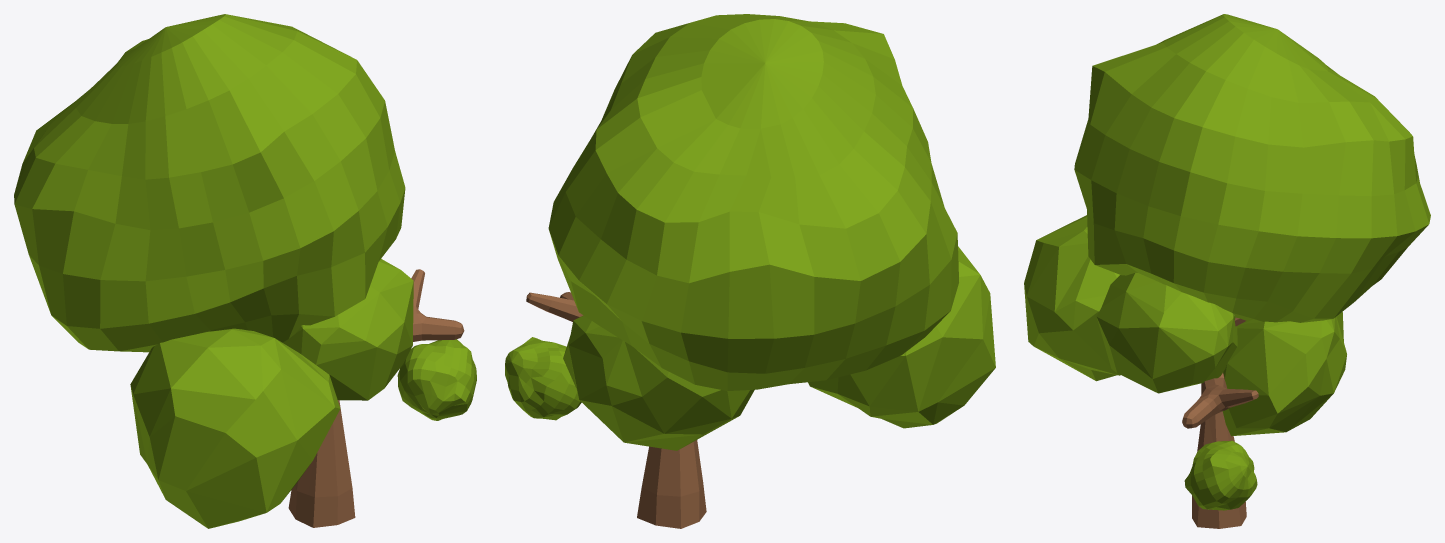
Rendered from GrownTree-transformed.glb.
3 views of the same model, side by side, from view 1: azimuth 30°, elevation 25°; view 2: azimuth 150°, elevation 25°; view 3: azimuth 270°, elevation 25° (orthographic). The views are drawn at different scales.
Parts seen in each view (by area): view 1: Object_647, Object_649; view 2: Object_647, Object_649; view 3: Object_647, Object_649.
Part boxes in pixels (box(x1,y1,x2,y2)): Object_647: box(14, 14, 476, 528); Object_649: box(288, 269, 464, 527); Object_647: box(505, 14, 995, 450); Object_649: box(526, 292, 706, 528); Object_647: box(1024, 14, 1430, 510); Object_649: box(1182, 317, 1258, 528).
Size of the model in its own units: 1.3 by 1.5 by 1.22.
